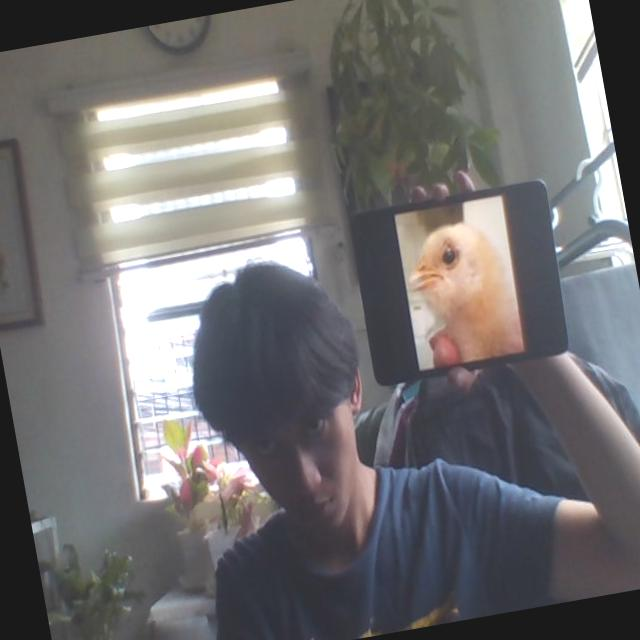Sick: (403, 212, 524, 367)
